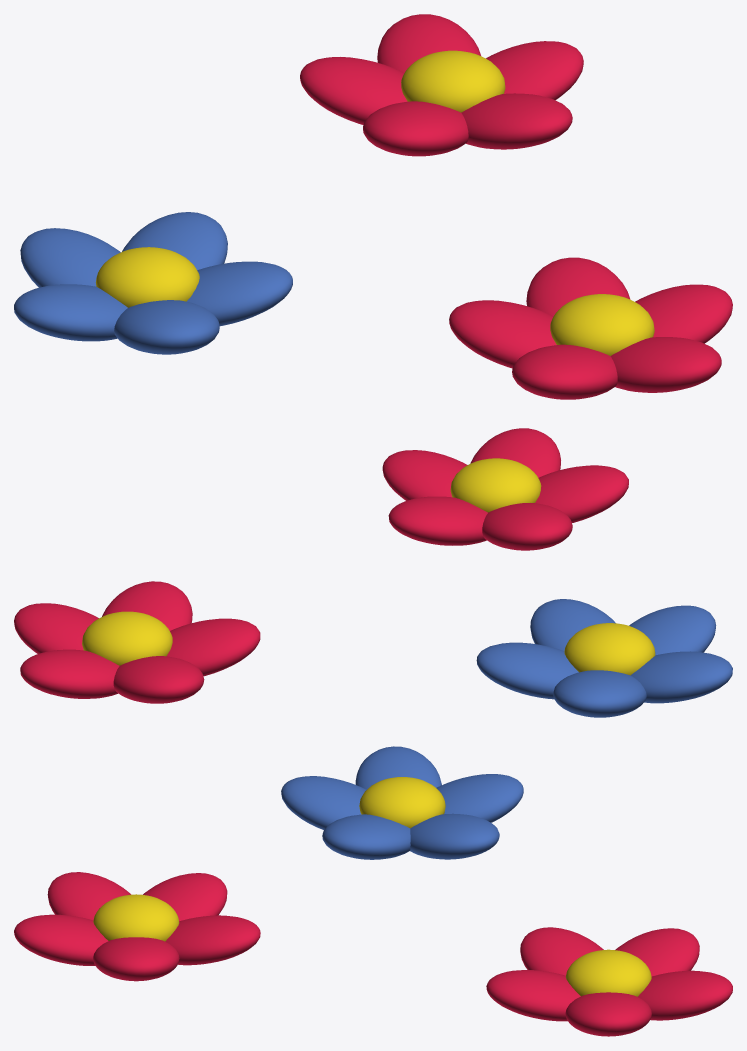
The model's file is flowers3.glb.
The picture shows the model from 3 angles, top to bottom: view 1: azimuth 30°, elevation 25°; view 2: azimuth 150°, elevation 25°; view 3: azimuth 270°, elevation 25°; orthographic projection. The views are drawn at different scales.
Parts seen in each view (by area): view 1: Sphere.009; view 2: Sphere.009; view 3: Sphere.009.
Boxes of the visible parts, x1=… form: Sphere.009: x1=14, y1=14, x2=732, y2=399; Sphere.009: x1=14, y1=428, x2=732, y2=717; Sphere.009: x1=14, y1=746, x2=732, y2=1036.
Bounding box in the file's own units: 4.53 × 0.4115 × 4.98.
